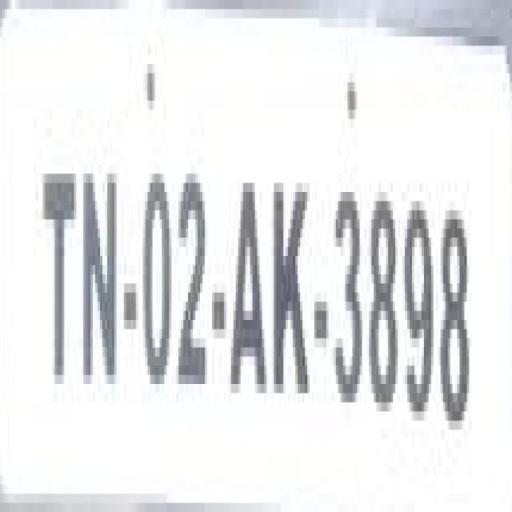number plate: (19, 18, 512, 494)
